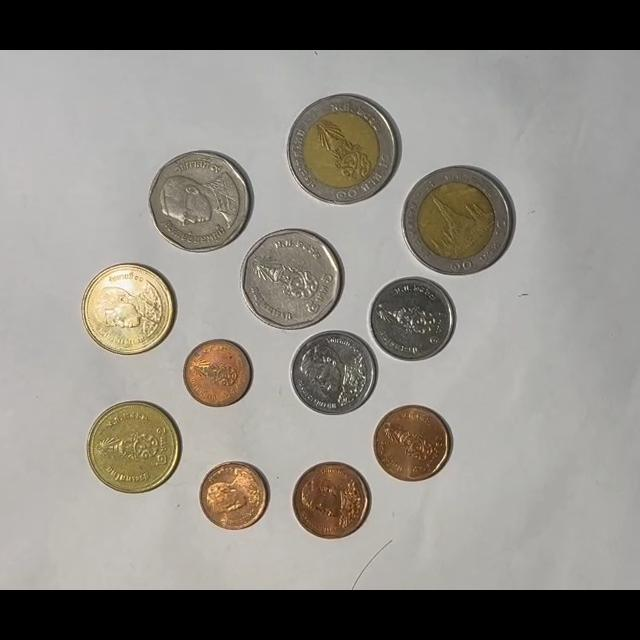1-baht: (290, 330, 378, 416), (369, 277, 456, 362)
10-baht: (287, 94, 400, 206), (402, 165, 514, 275)
2-baht: (87, 401, 183, 494), (81, 263, 174, 357)
25-satang: (198, 461, 270, 532), (183, 339, 252, 407)
5-baht: (148, 150, 253, 253), (240, 228, 343, 331)
50-satang: (292, 462, 371, 540), (373, 405, 451, 482)
